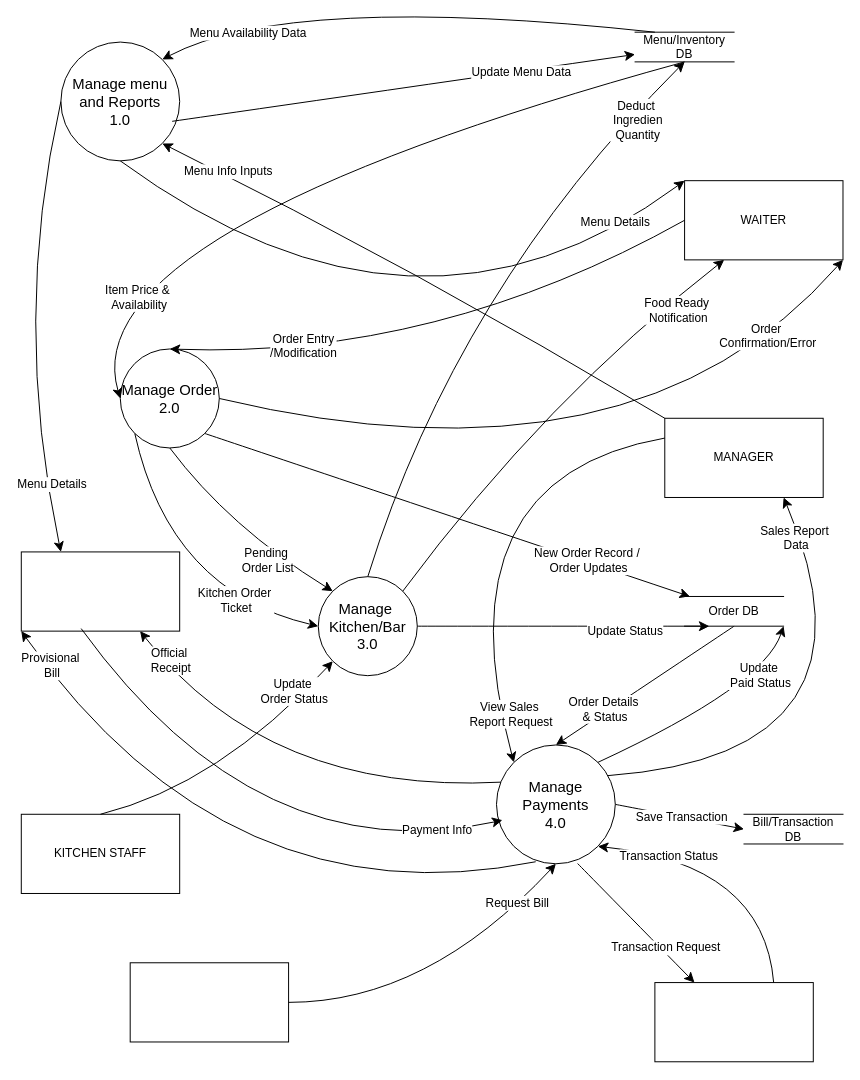
The diagram is 860 pixels wide and 1080 high, and some of its shapes have lost their labels. Here are the shapes that lost their labels. From the top down, the box of each, then its label:
(20, 551, 180, 631): CUSTOMER
(129, 962, 289, 1042): CASHIER
(654, 982, 813, 1062): ENTARNAL PAYMENT GATEWAY
